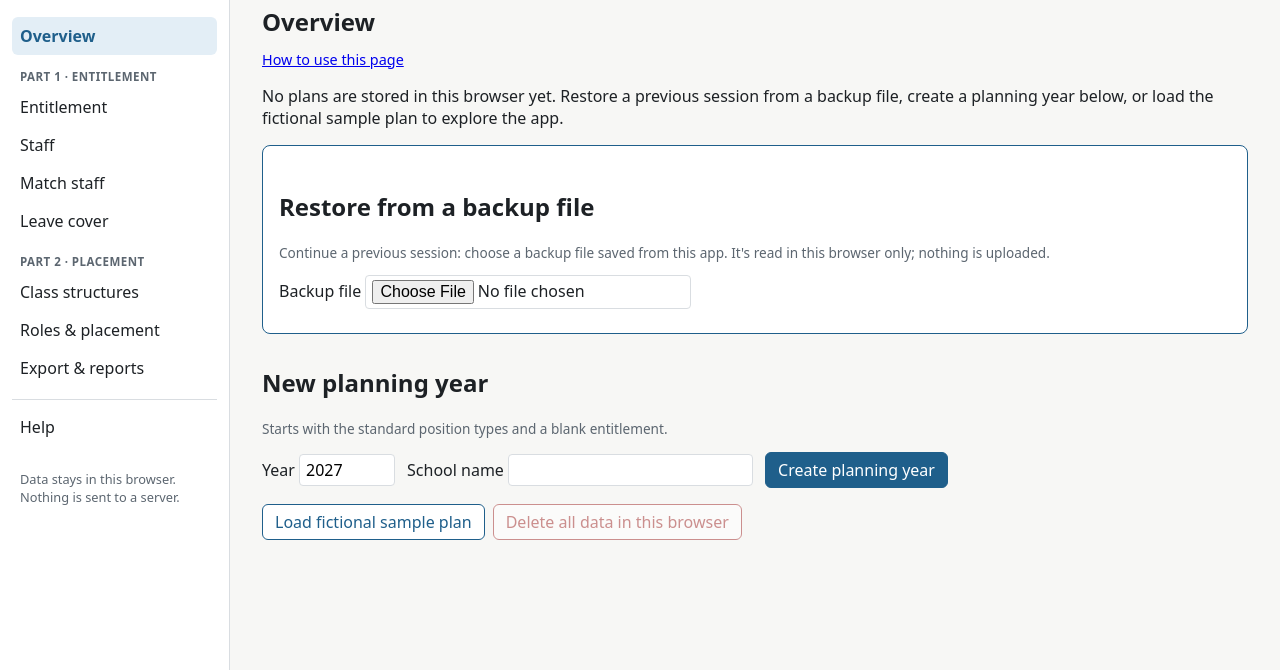
Test: Entitlement page › rejects a duplicate position type name
Replace the text in the field labelled "Year" with "2028": (347, 470) [299,454,395,486]
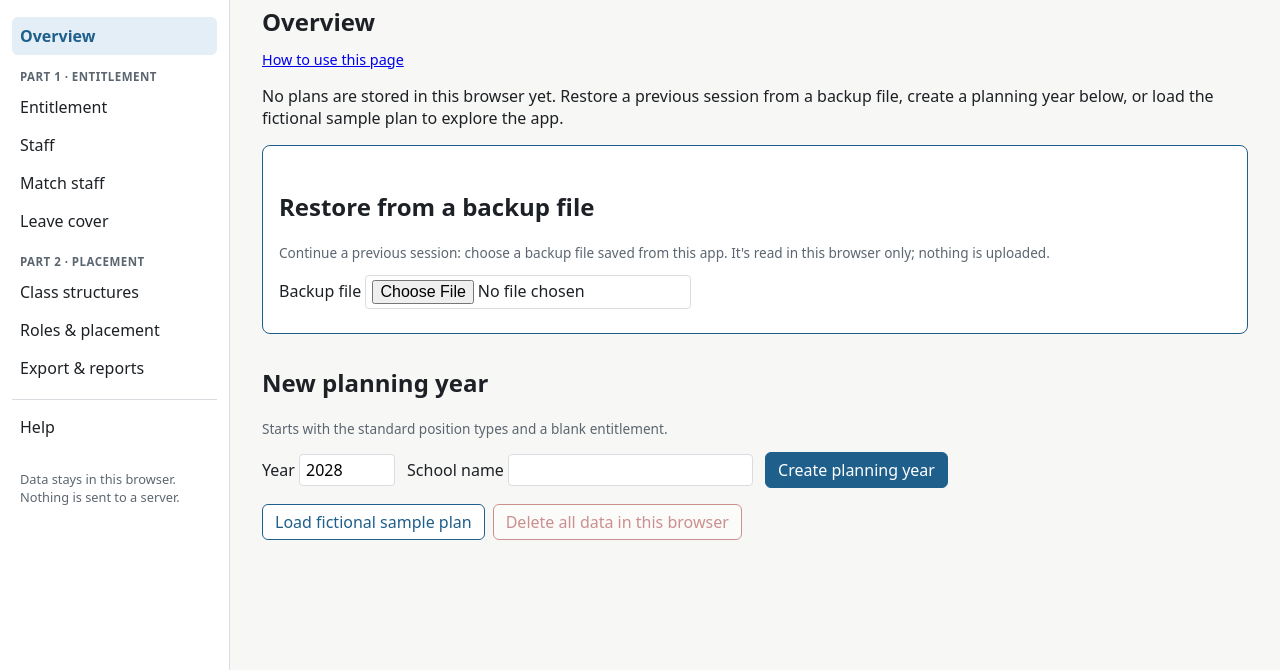
In the field labelled "School name": (630, 470) [508,454,753,486], type "Test School"
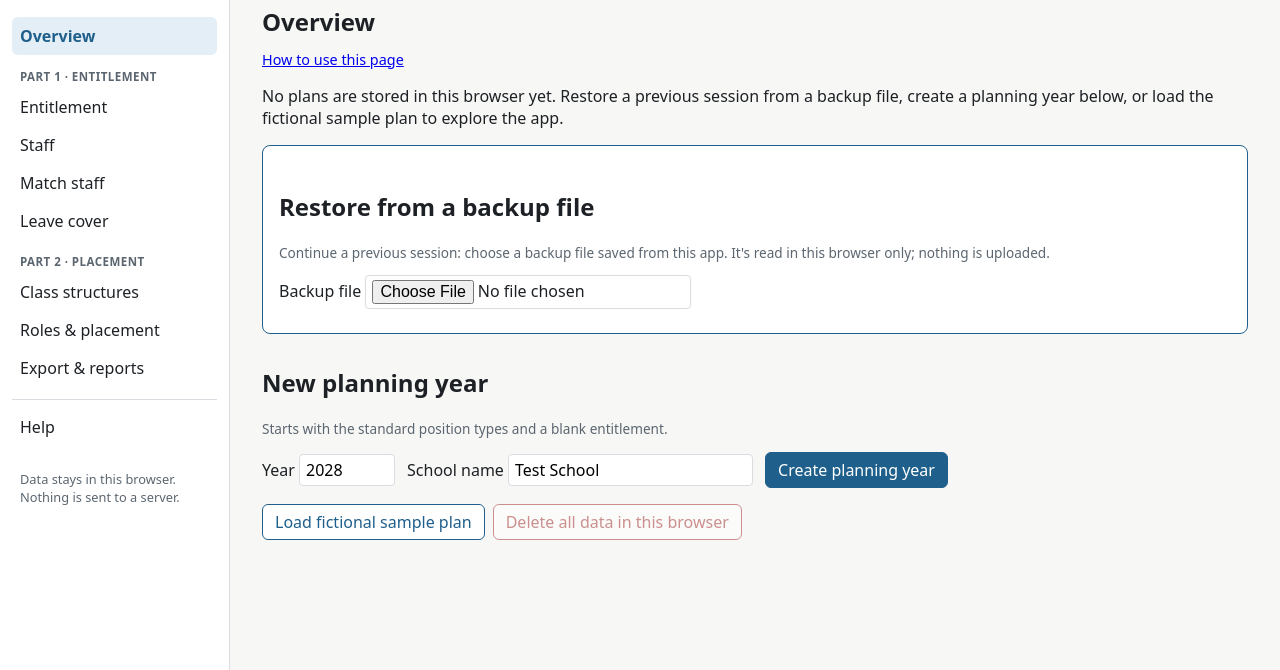
Click the button "Create planning year": click(856, 470) [765,452,948,488]
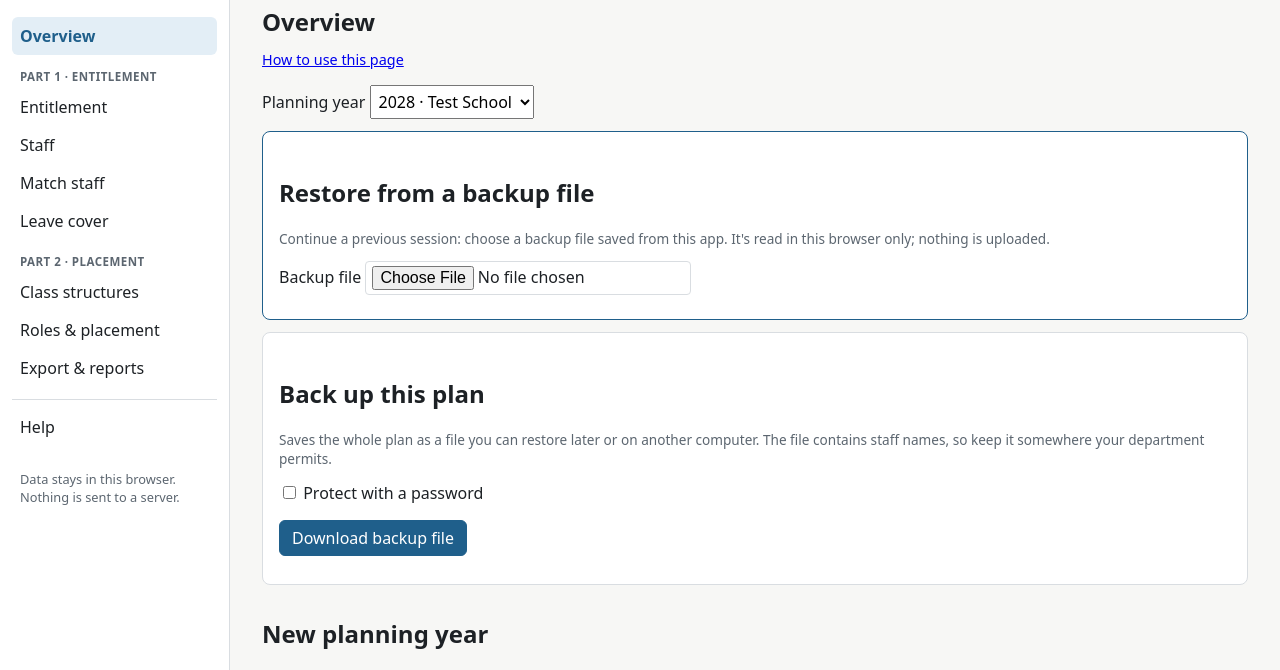
Click the link "Entitlement": click(64, 107) [20,96,107,118]
(page scrolled)
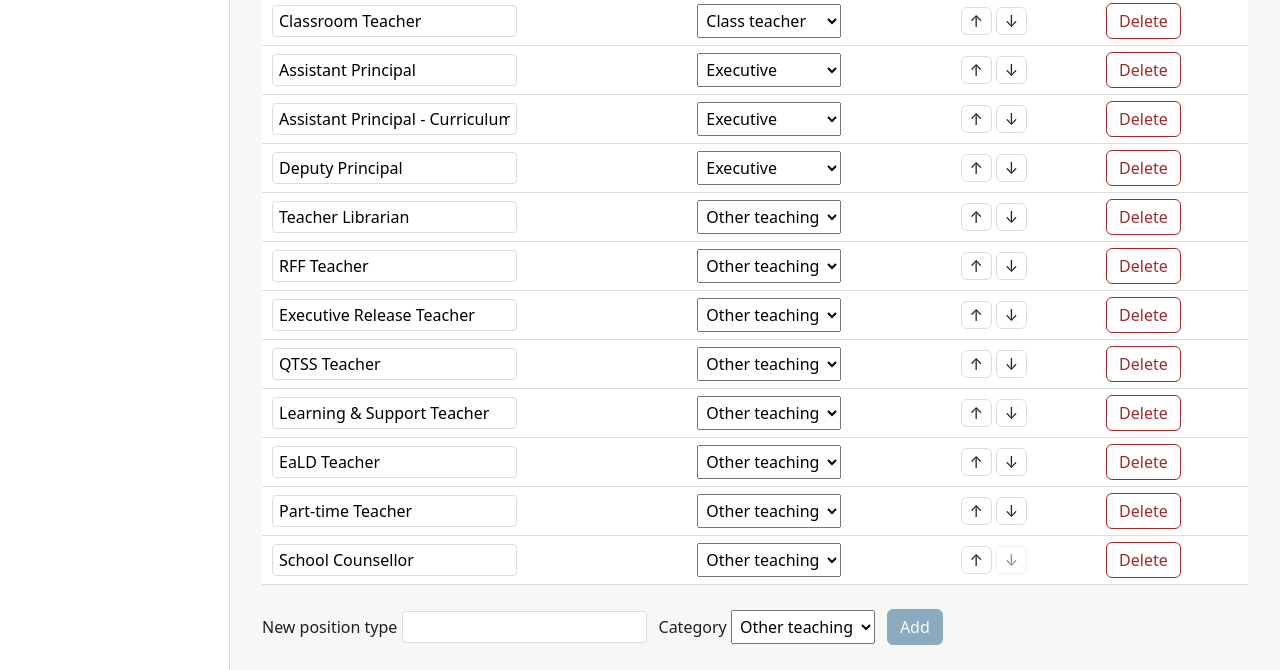
In the field labelled "New position type": (524, 627) [402,611,646,643], type "rff teacher"
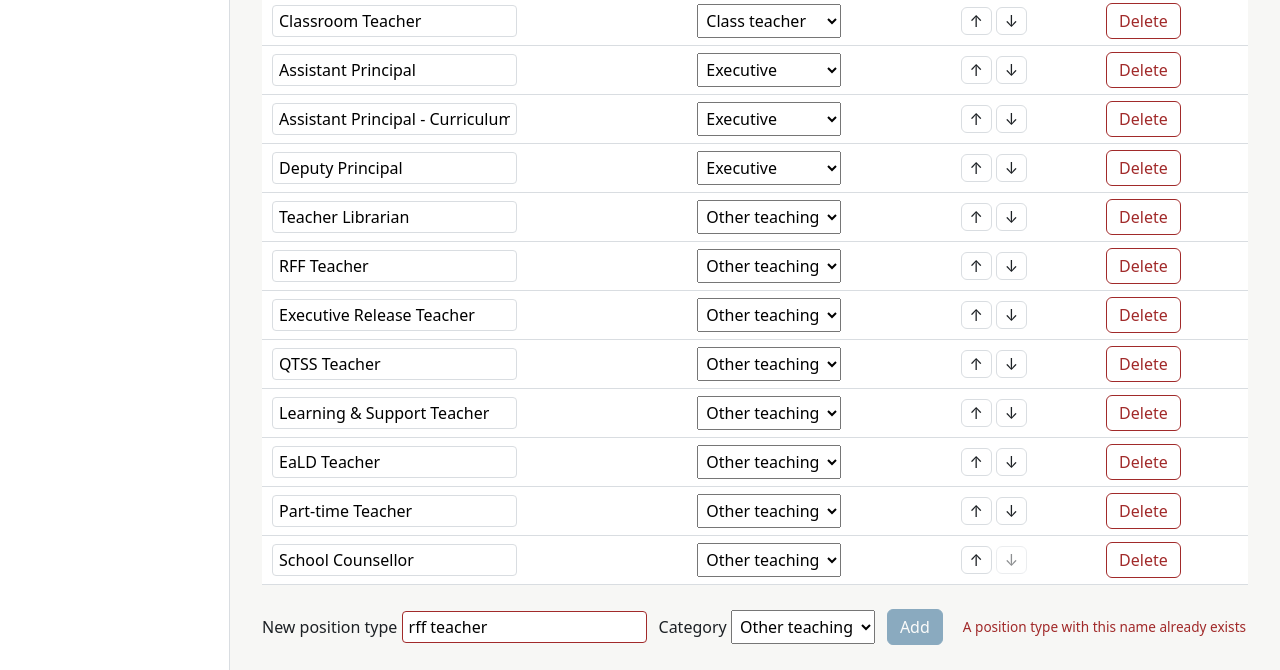
Check: the button "Add" is disabled, box [887,609,943,645]
Check: the text "A position type with this name already exists" is shown, box [963,617,1246,636]
